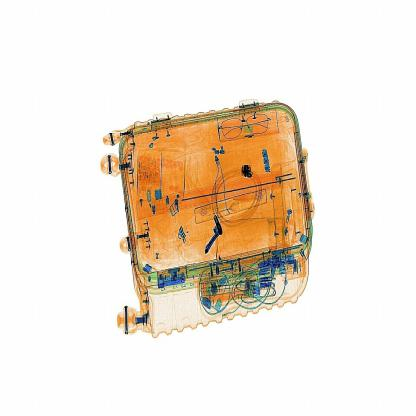scissors: (239, 161, 253, 183)
